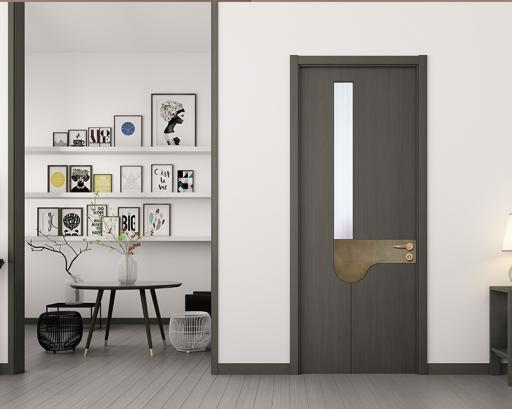door: (298, 67, 417, 368)
